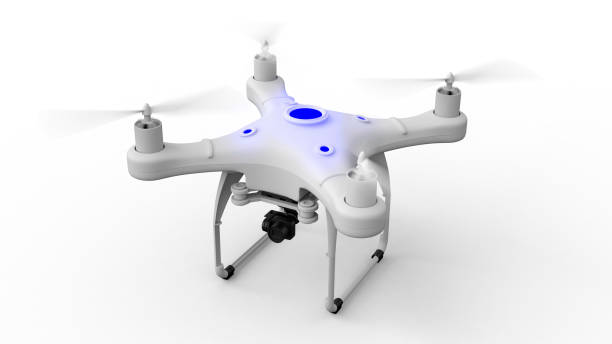Drone: (85, 30, 512, 318)
